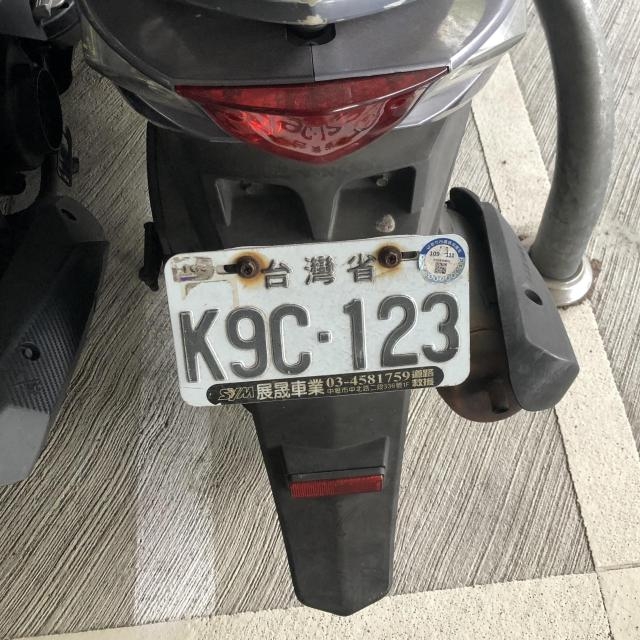W: (159, 234, 471, 395)
